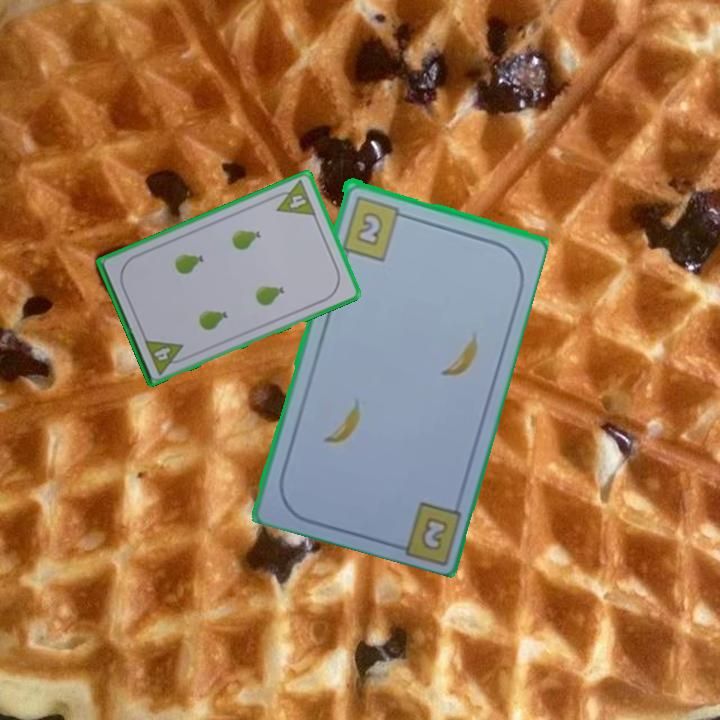2b: (338, 192, 410, 263), (419, 516, 448, 550)
4p: (268, 177, 319, 219), (141, 335, 190, 377)
